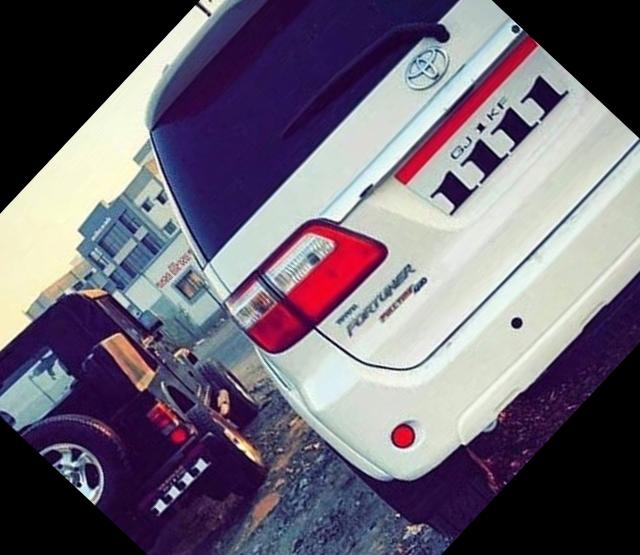plate: (388, 29, 589, 235)
